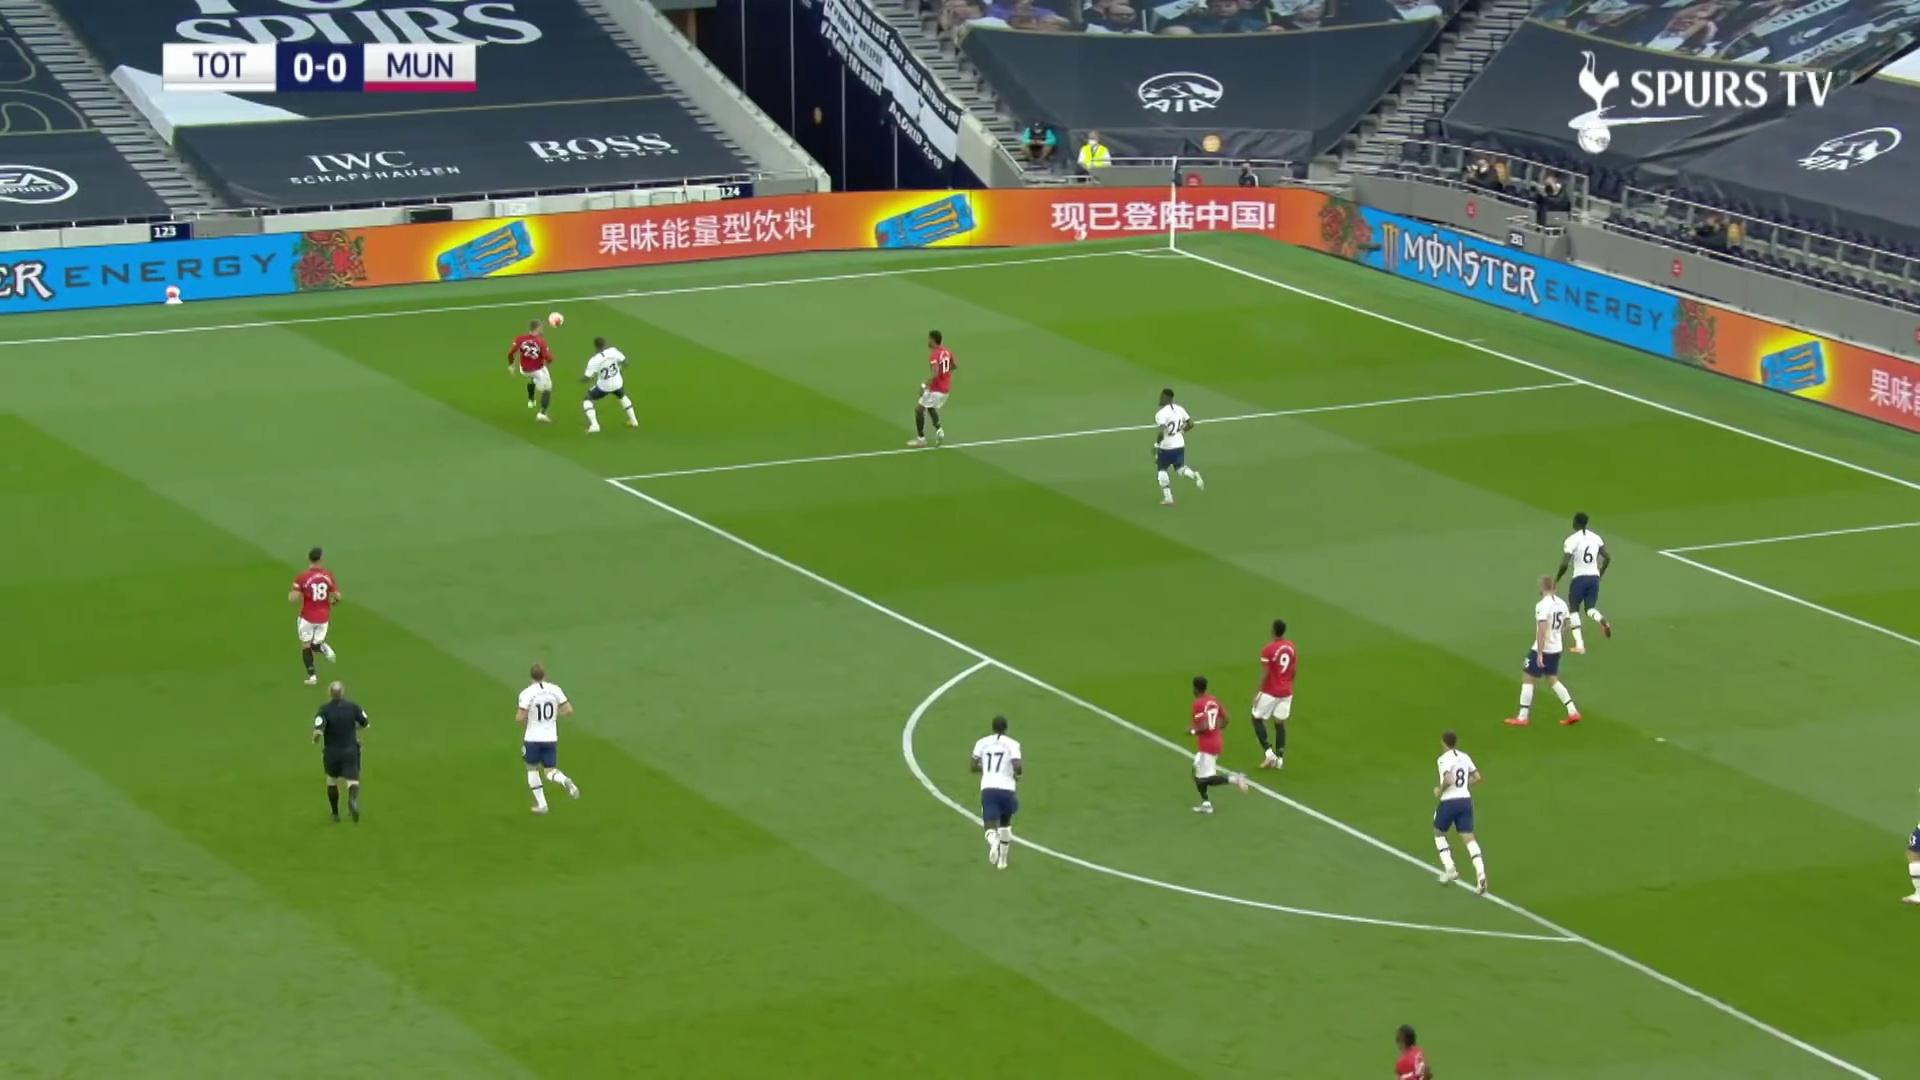ball: (547, 309, 564, 330)
player: (1503, 571, 1584, 732), (512, 660, 588, 821), (1424, 726, 1493, 893), (966, 708, 1032, 875), (1546, 510, 1616, 654), (1181, 671, 1249, 817), (1248, 616, 1305, 776), (1148, 386, 1214, 507), (288, 546, 343, 691), (904, 328, 958, 452), (577, 334, 639, 435), (506, 319, 559, 429), (1377, 1021, 1459, 1080), (1903, 775, 1919, 910)
referee: (305, 676, 373, 834)
